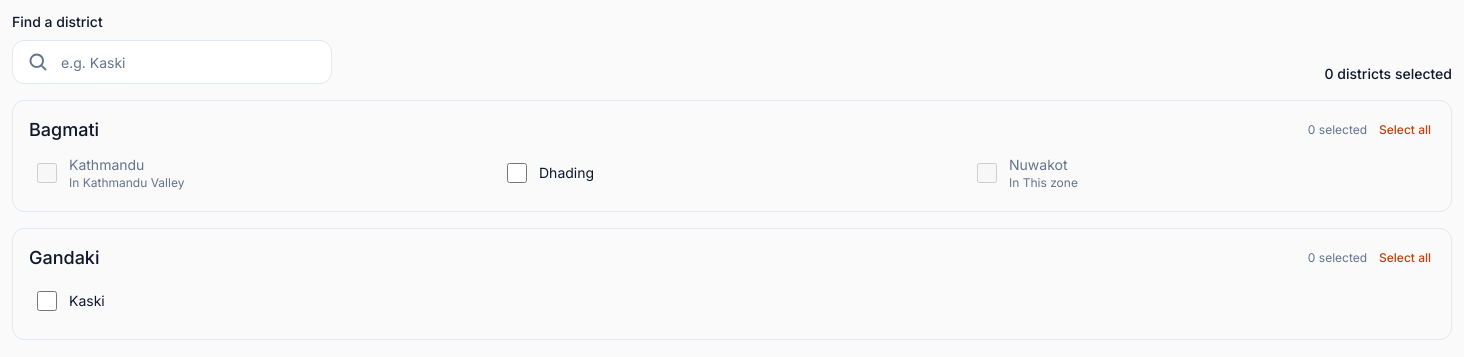
Test: DistrictPicker › filters districts by name
The width and height of the screenshot is (1464, 357).
Type "kas" into the search field labelled "Find a district" at (172, 62), box [12,40,332,84]
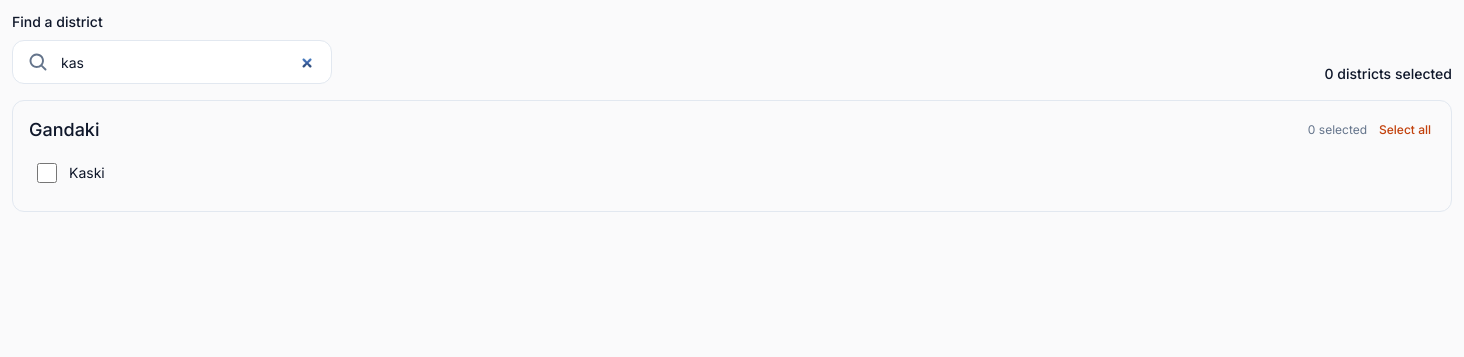
Expected: the checkbox labelled "Kaski" is shown, [37,163,57,183]
Expected: the text "Dhading" is gone
